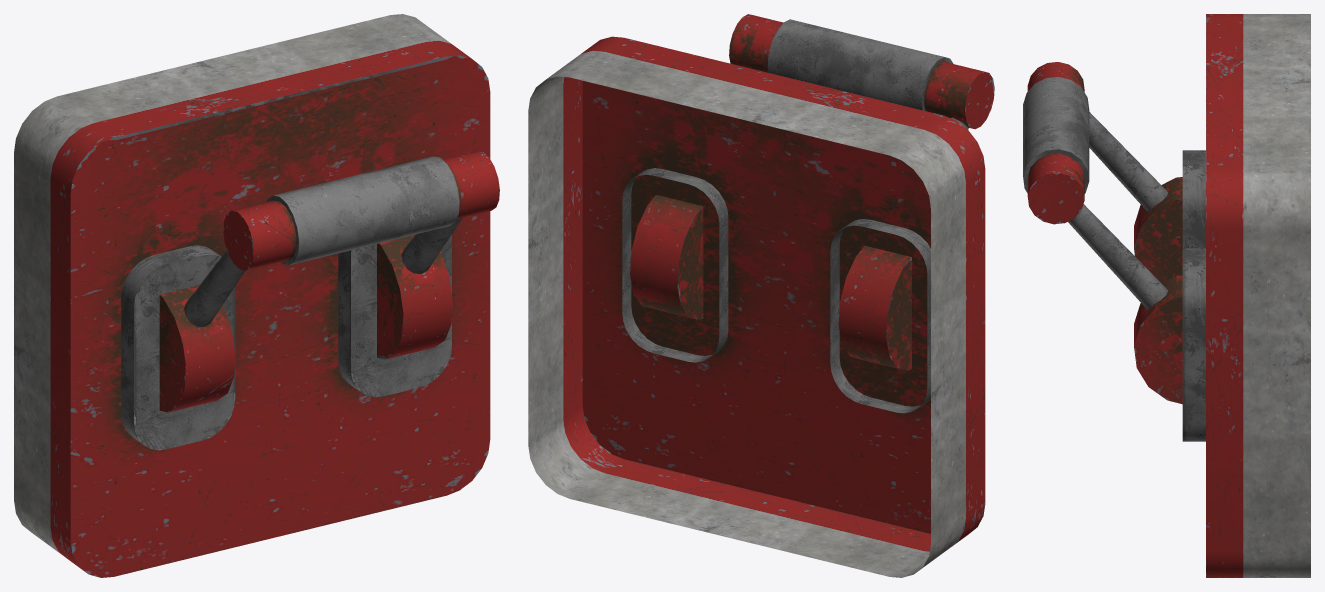
The model's file is lever_-_vurvur_house_5.glb.
3 views of the same model, side by side, from view 1: azimuth 30°, elevation 25°; view 2: azimuth 150°, elevation 25°; view 3: azimuth 270°, elevation 25° (orthographic). The views are drawn at different scales.
Visible parts, largest first — view 1: level_Cilindro.001, level_Cilindro_1.001; view 2: level_Cilindro.001, level_Cilindro_1.001; view 3: level_Cilindro.001, level_Cilindro_1.001.
Part boxes in pixels (x1,y1,x2,y2): level_Cilindro.001: [14, 14, 490, 577]; level_Cilindro_1.001: [159, 150, 499, 412]; level_Cilindro.001: [528, 36, 985, 577]; level_Cilindro_1.001: [630, 14, 994, 370]; level_Cilindro.001: [1182, 14, 1310, 577]; level_Cilindro_1.001: [1023, 62, 1182, 404].
Bounding box in the file's own units: 1.29 × 1.29 × 0.8266.
1 material, 1 textured.
